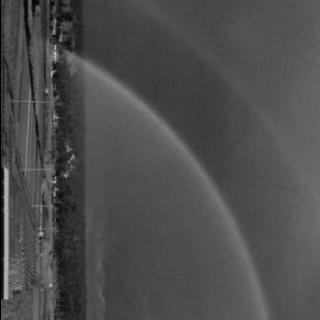Stratus: (86, 0, 320, 320)
